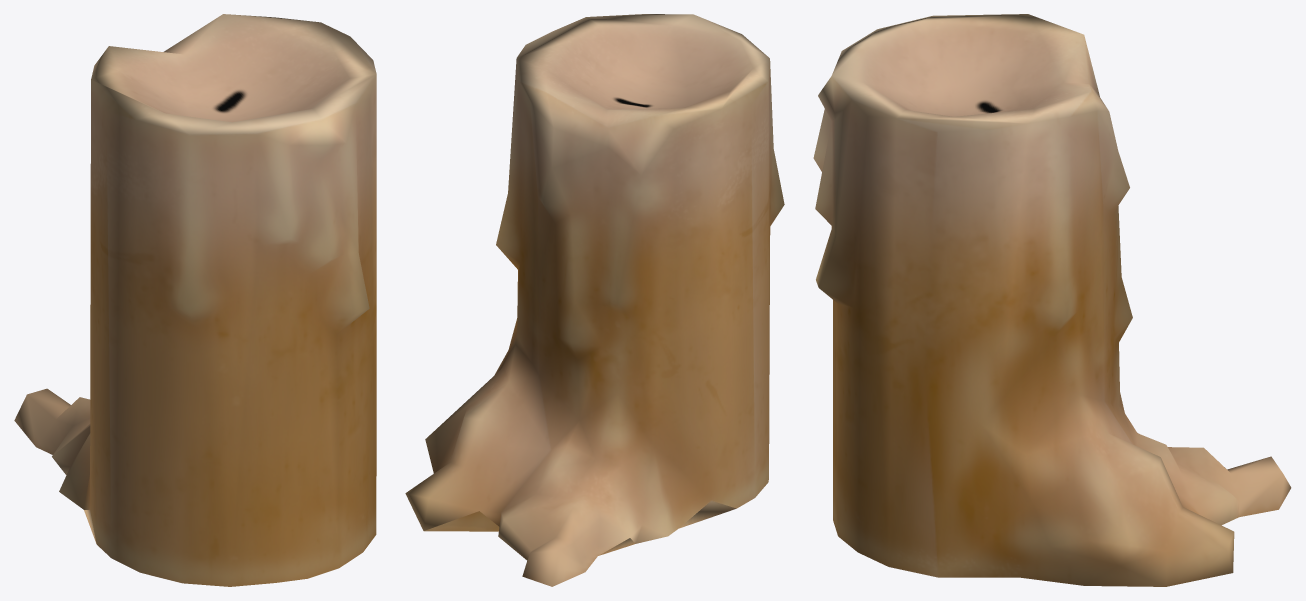
The model's file is SM_Candles_005.fbx.
3 views of the same model, side by side, from view 1: azimuth 30°, elevation 25°; view 2: azimuth 150°, elevation 25°; view 3: azimuth 270°, elevation 25° (orthographic). The views are drawn at different scales.
Visible parts, largest first — view 1: SM_Candles_005_LOD0; view 2: SM_Candles_005_LOD0; view 3: SM_Candles_005_LOD0.
Part boxes in pixels (x1,y1,x2,y2): SM_Candles_005_LOD0: [14, 14, 376, 586]; SM_Candles_005_LOD0: [405, 14, 784, 586]; SM_Candles_005_LOD0: [813, 14, 1291, 586].
Size of the model in its own units: 5.46 by 7.9 by 8.24.
1 material, 1 textured.
